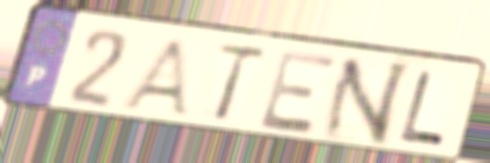2: (63, 28, 128, 111)
A: (117, 37, 192, 120)
E: (256, 46, 342, 137)
L: (395, 68, 449, 151)
N: (316, 57, 417, 148)
T: (210, 41, 270, 125)
